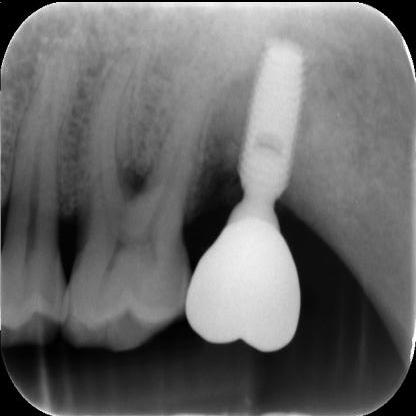Bicon: (221, 30, 309, 216)
